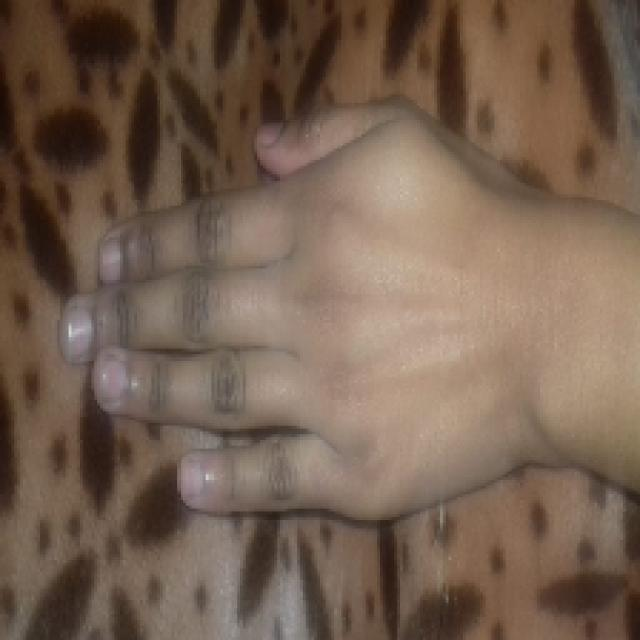Nail: (96, 354, 129, 406), (66, 310, 95, 355), (97, 239, 122, 282), (178, 459, 205, 498), (255, 124, 282, 151)
